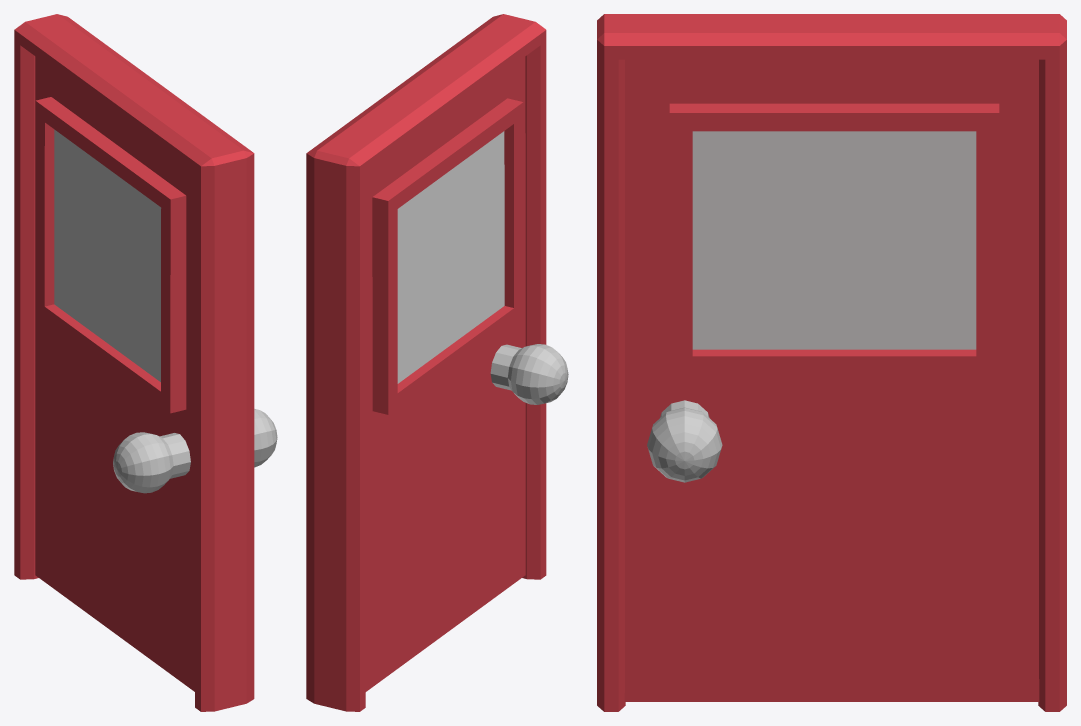
The model's file is mod_door_stair.fbx.
3 views of the same model, side by side, from view 1: azimuth 30°, elevation 25°; view 2: azimuth 150°, elevation 25°; view 3: azimuth 270°, elevation 25° (orthographic). The views are drawn at different scales.
Parts seen in each view (by area): view 1: mod_door_stair; view 2: mod_door_stair; view 3: mod_door_stair.
Part boxes in pixels (x1,y1,x2,y2): mod_door_stair: (14,14,277,711); mod_door_stair: (306,14,568,711); mod_door_stair: (597,14,1066,711).
Size of the model in its own units: 0.4813 by 1.62 by 1.03.
Materials: 1 (1 with a texture image).
